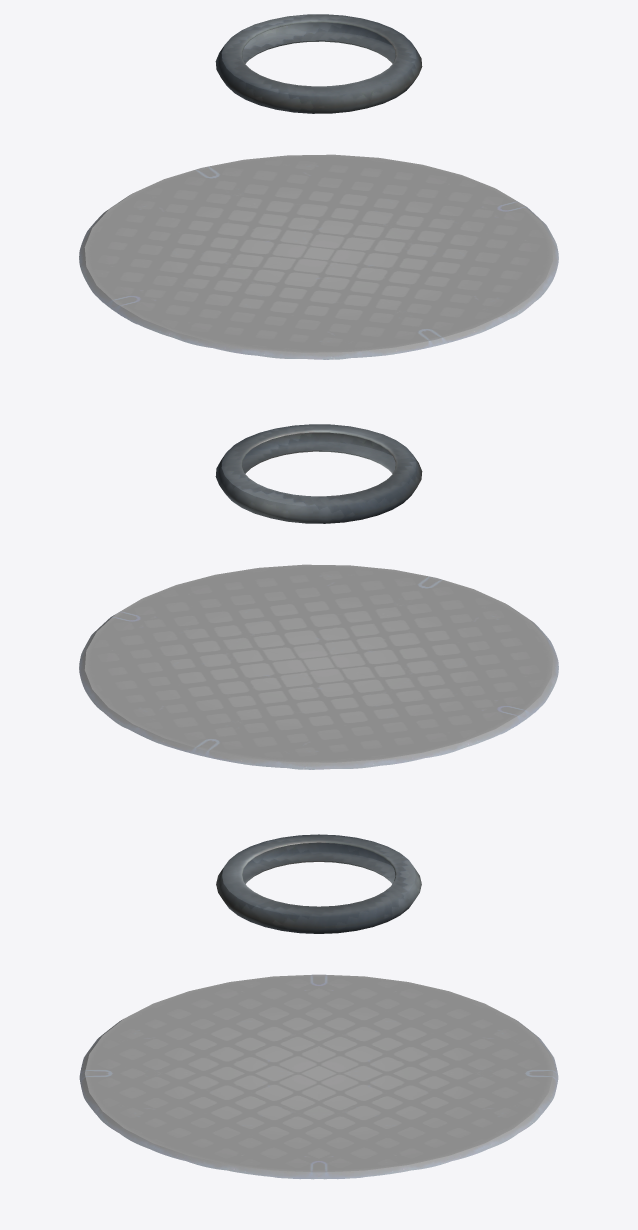
File: pref_TPC_v2_NeutralScoreArea03_winter_orange_dead_lv2.fbx
The picture shows the model from 3 angles, top to bottom: view 1: azimuth 30°, elevation 25°; view 2: azimuth 150°, elevation 25°; view 3: azimuth 270°, elevation 25°; orthographic projection.
Parts seen in each view (by area): view 1: sm_prop_platform06a_lv2, sm_prop_platform06b_lv2; view 2: sm_prop_platform06a_lv2, sm_prop_platform06b_lv2; view 3: sm_prop_platform06a_lv2, sm_prop_platform06b_lv2.
Part boxes in pixels (box(x1,y1,x2,y2)): sm_prop_platform06a_lv2: box(79, 154, 558, 359); sm_prop_platform06b_lv2: box(215, 14, 422, 113); sm_prop_platform06a_lv2: box(79, 564, 558, 769); sm_prop_platform06b_lv2: box(215, 424, 422, 523); sm_prop_platform06a_lv2: box(79, 974, 558, 1179); sm_prop_platform06b_lv2: box(216, 834, 421, 933).
Bounding box in the file's own units: 7.46 × 2.88 × 7.46.
